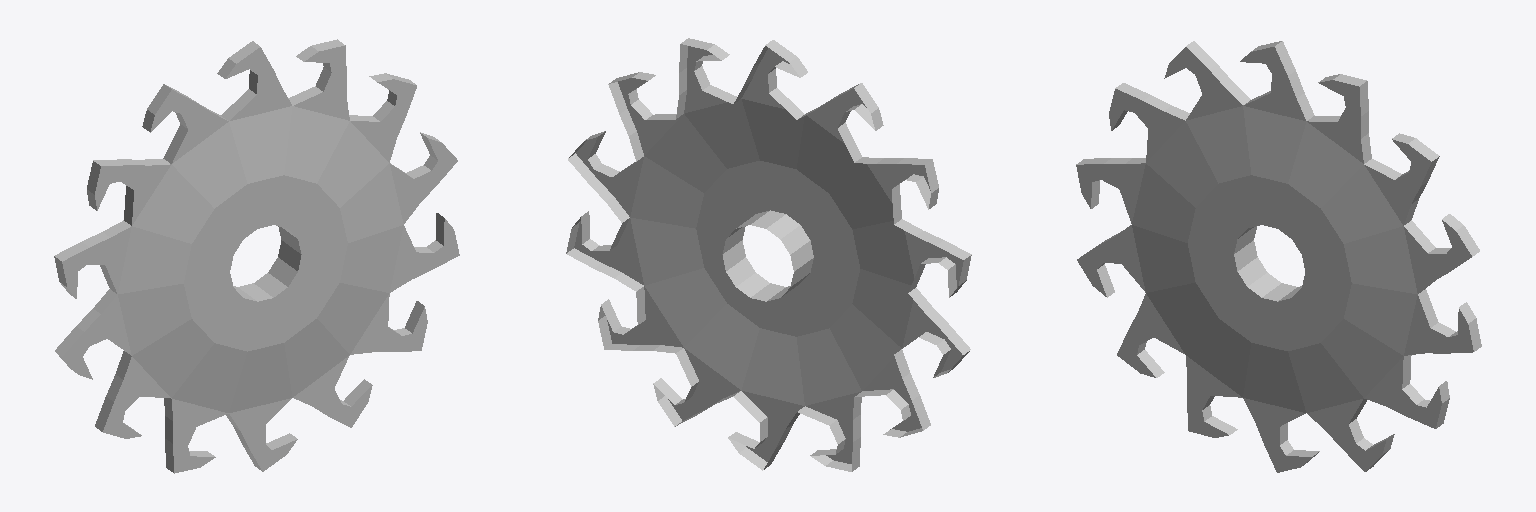
File: hippie_saw.obj
The picture shows the model from 3 angles: view 1: azimuth 30°, elevation 25°; view 2: azimuth 150°, elevation 25°; view 3: azimuth 330°, elevation 25°; orthographic projection.
Parts seen in each view (by area): view 1: Round_corridor_cyberpunk_Traps_v1_gears; view 2: Round_corridor_cyberpunk_Traps_v1_gears; view 3: Round_corridor_cyberpunk_Traps_v1_gears.
Part boxes in pixels (x1,y1,x2,y2): Round_corridor_cyberpunk_Traps_v1_gears: (54, 39, 459, 473); Round_corridor_cyberpunk_Traps_v1_gears: (566, 38, 971, 471); Round_corridor_cyberpunk_Traps_v1_gears: (1076, 41, 1481, 472).
Size of the model in its own units: 0.0715 by 0.0732 by 0.0063.